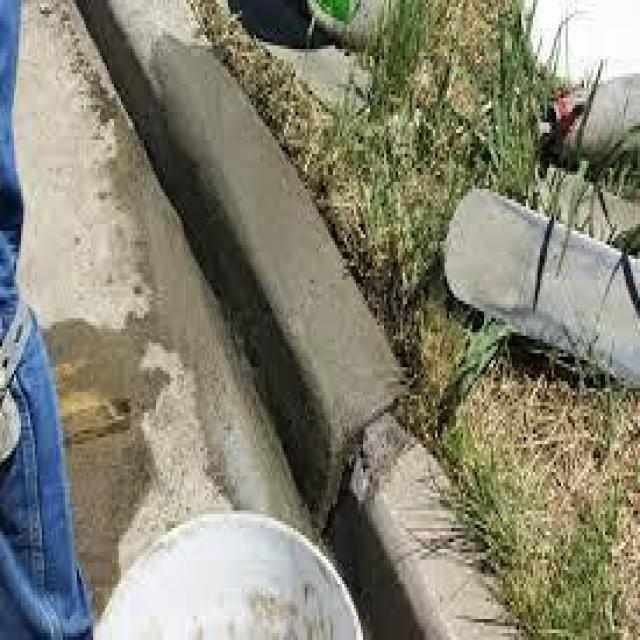curb: (80, 5, 406, 529), (329, 415, 526, 640)
